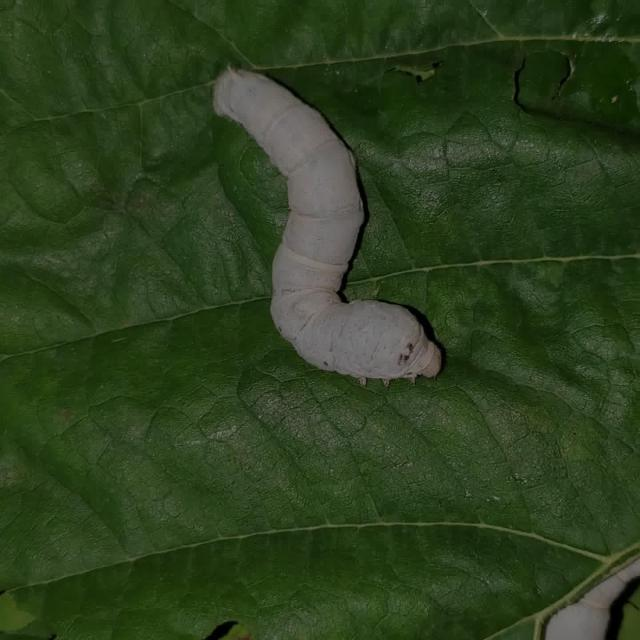Healthy: (193, 37, 509, 410)
